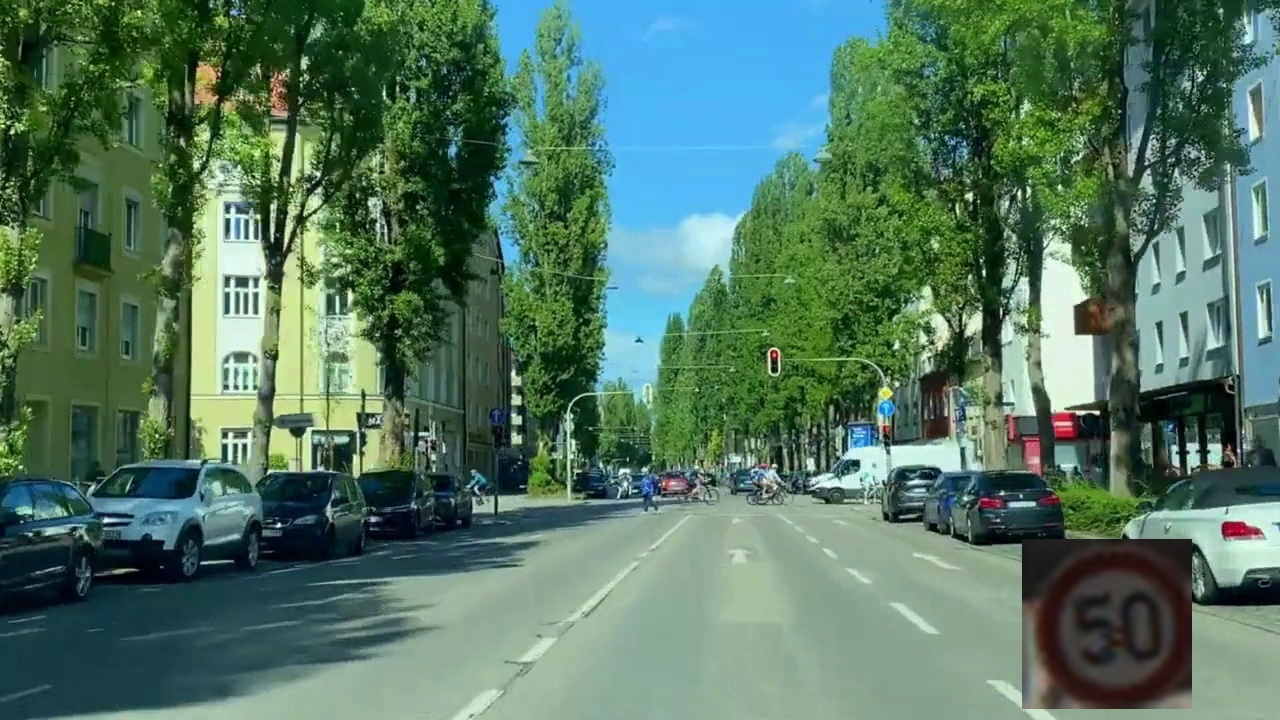Speed 50: (1022, 539, 1192, 709)
